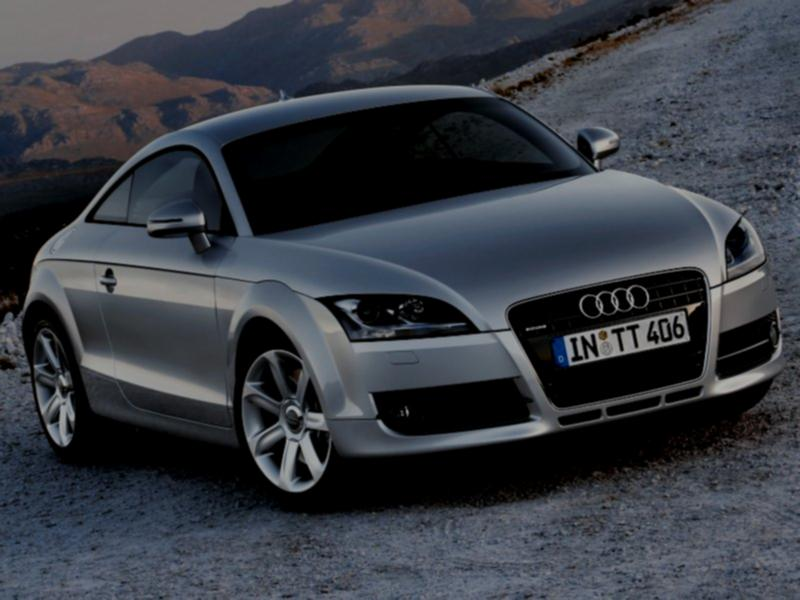Audi: (572, 267, 659, 328)
